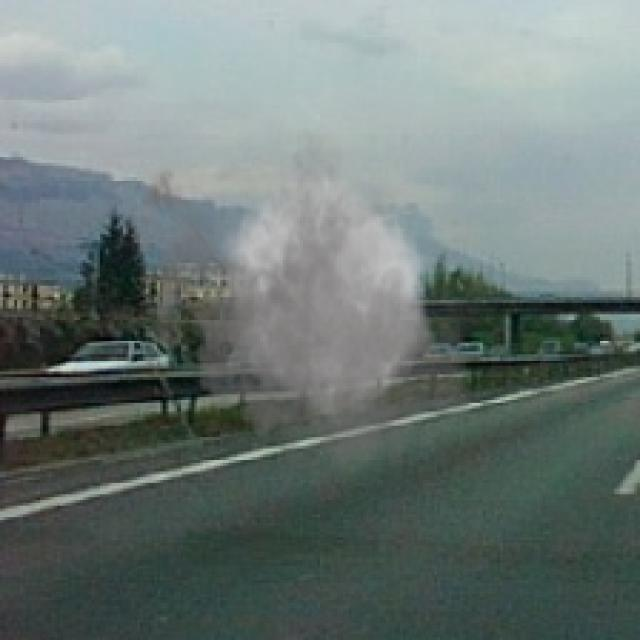smoke: (128, 106, 483, 488)
